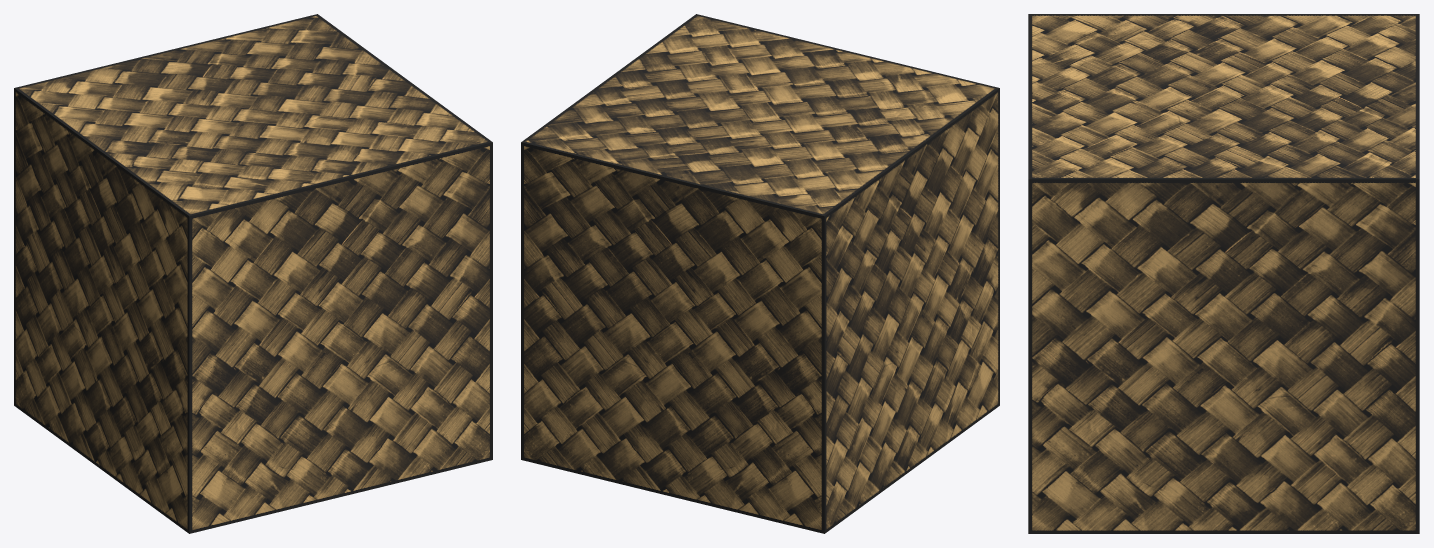
File: disp_cube.obj
3 views of the same model, side by side, from view 1: azimuth 30°, elevation 25°; view 2: azimuth 150°, elevation 25°; view 3: azimuth 270°, elevation 25° (orthographic). The views are drawn at different scales.
Visible parts, largest first — view 1: Cube_Mesh; view 2: Cube_Mesh; view 3: Cube_Mesh.
Part boxes in pixels (x1,y1,x2,y2): Cube_Mesh: [14, 14, 492, 533]; Cube_Mesh: [521, 14, 999, 533]; Cube_Mesh: [1028, 14, 1419, 533].
Size of the model in its own units: 2 by 2 by 2.
